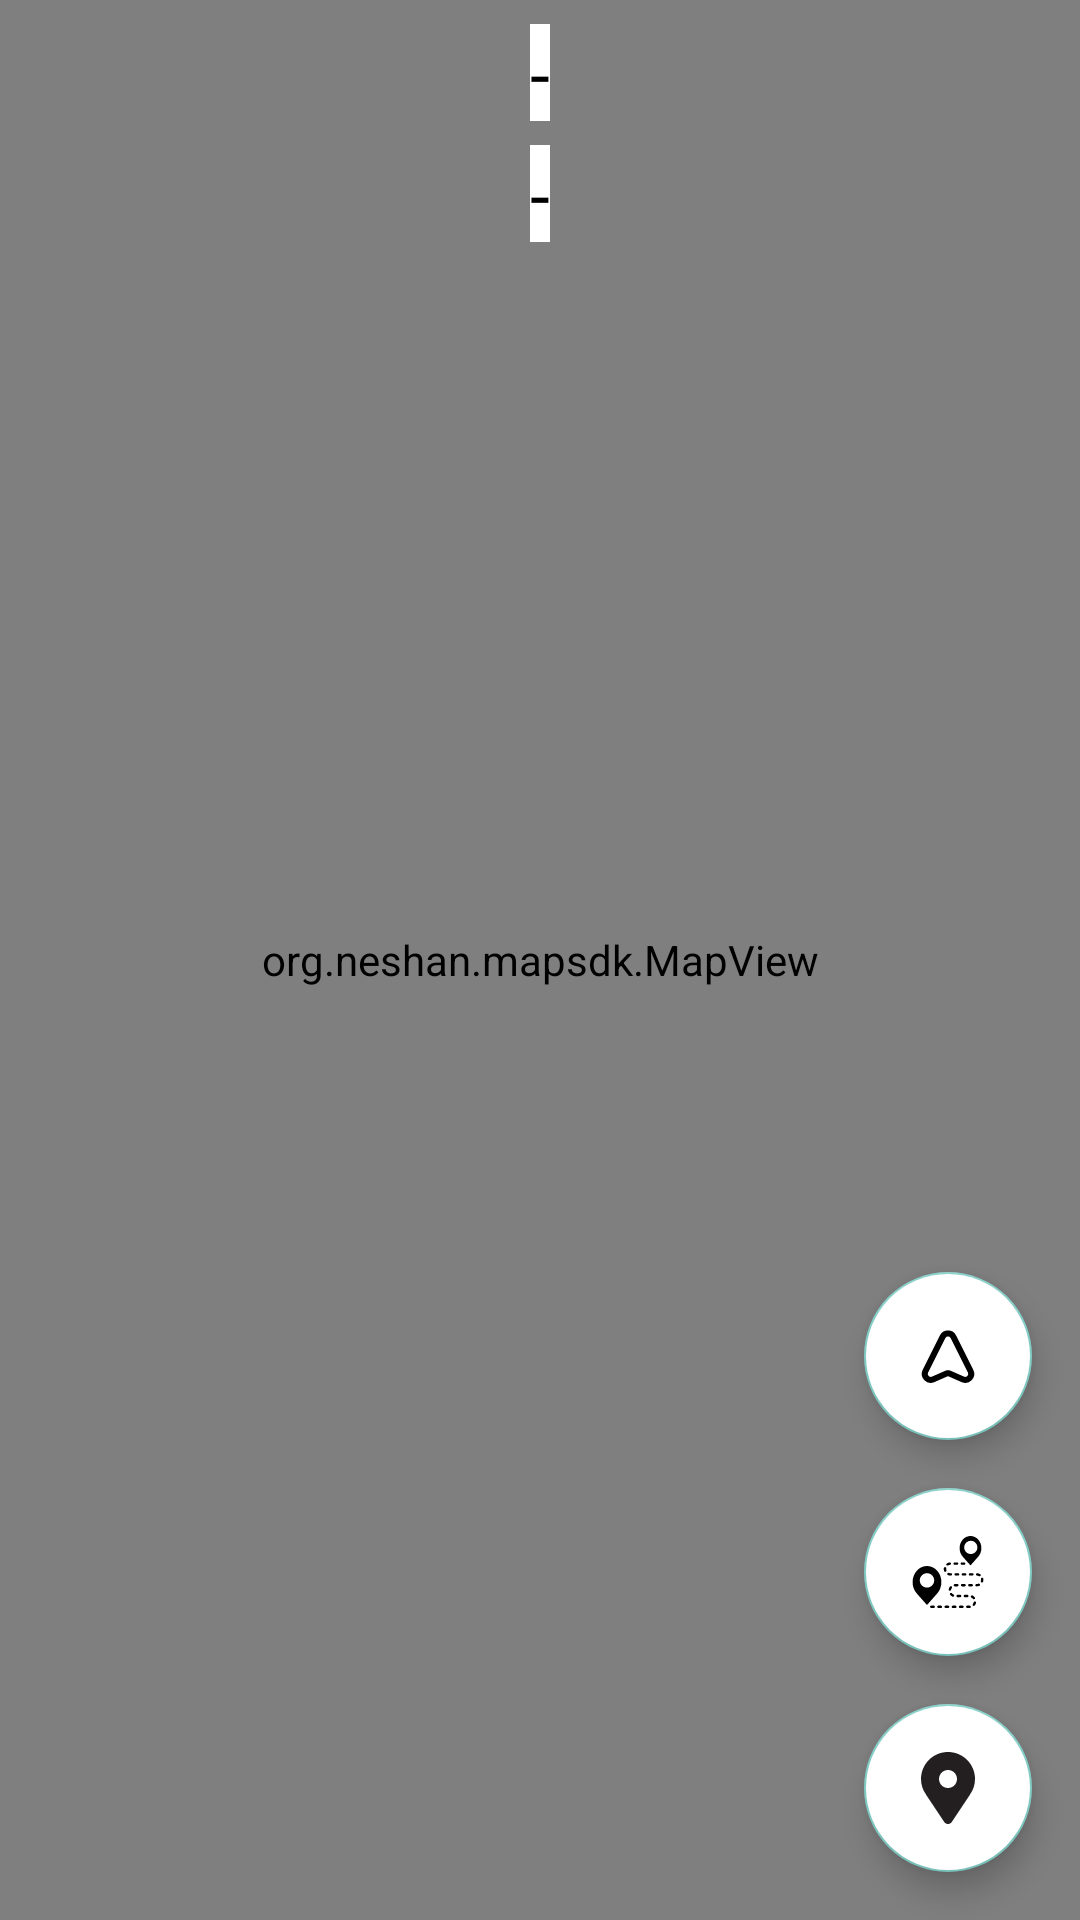

Where to tap for icons on this 1080 × 1920 app screen, as [x,y]:
location: [948,1788]
navigation: [948,1356]
route: [948,1572]
